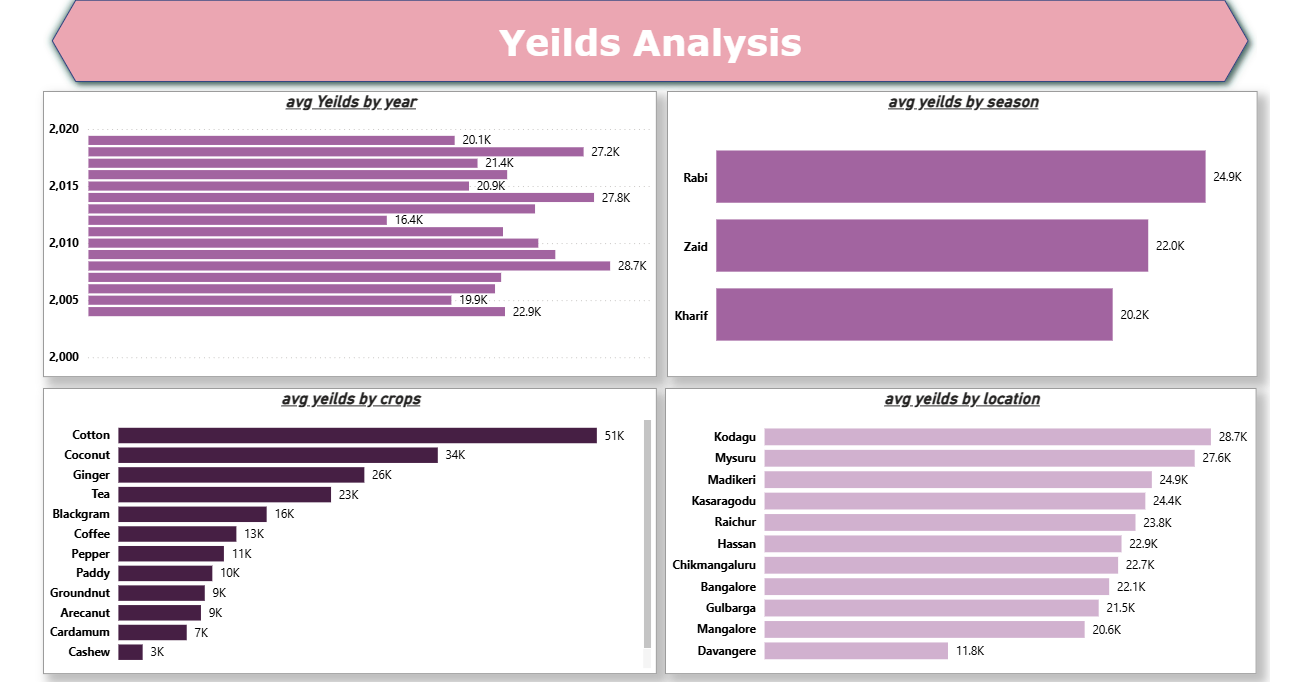

The page's visual inventory and layout, read from the dashboard file:
{"tool":"powerbi","page":{"name":"Yields Analysis","canvas":[1280,720],"ordinal":3},"visuals":[{"type":"shape","box":[10.5,0,1256.3,103.1],"z":0},{"type":"barChart","title":"avg Yeilds by year","fields":{"Category":["AGRICULTURE.YEAR"],"Y":["Avg(AGRICULTURE.YEILDS)"]},"box":[10.5,103.1,634.9,295.8],"z":1000},{"type":"barChart","title":"avg yeilds by season","fields":{"Category":["AGRICULTURE.SEASON"],"Y":["Avg(AGRICULTURE.YEILDS)"]},"box":[655.8,103.1,611,295.8],"z":2000},{"type":"barChart","title":"avg yeilds by crops","fields":{"Category":["AGRICULTURE.CROPS"],"Y":["Avg(AGRICULTURE.YEILDS)"]},"box":[10.5,410.8,634.9,295.8],"z":3000},{"type":"barChart","title":"avg yeilds by location","fields":{"Category":["AGRICULTURE.LOCATION"],"Y":["Avg(AGRICULTURE.YEILDS)"]},"box":[654.3,410.8,612.4,295.8],"z":4000}]}

Visuals, with their boxes on the page's 1280x720 design canvas (x1, y1, x2, y2). These are canvas units, not pixel positions in the 1292x682 screenshot, which may show the page scaled, cropped or inside an application window:
shape: [10,0,1267,103]
"avg Yeilds by year" barChart: [10,103,645,399]
"avg yeilds by season" barChart: [656,103,1267,399]
"avg yeilds by crops" barChart: [10,411,645,707]
"avg yeilds by location" barChart: [654,411,1267,707]
